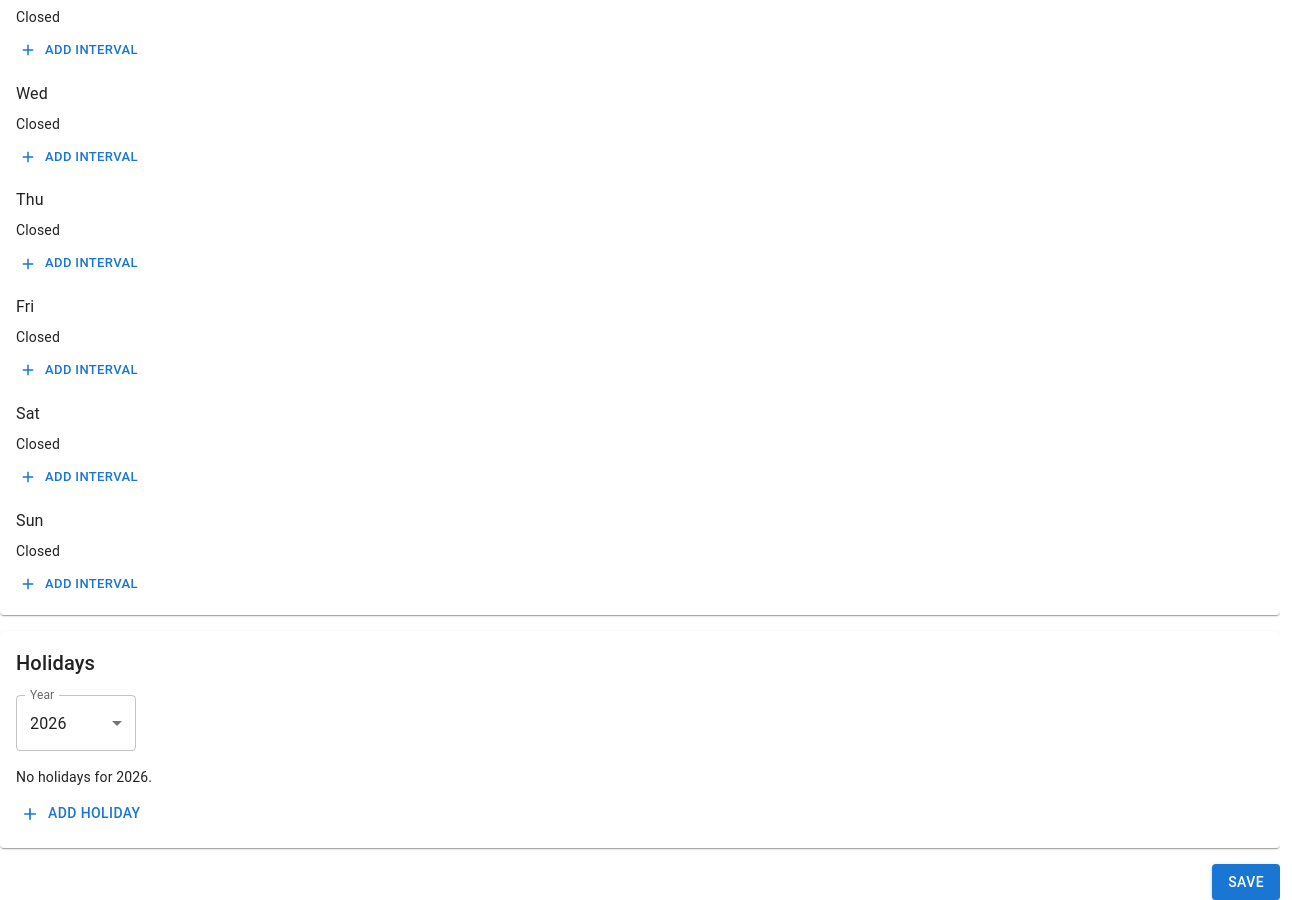
SettingsPage › shows the backend error when a save is rejected
(page scrolled)
Click the button "Save" at (1246, 882), box [1212,864,1280,899]
(page scrolled)
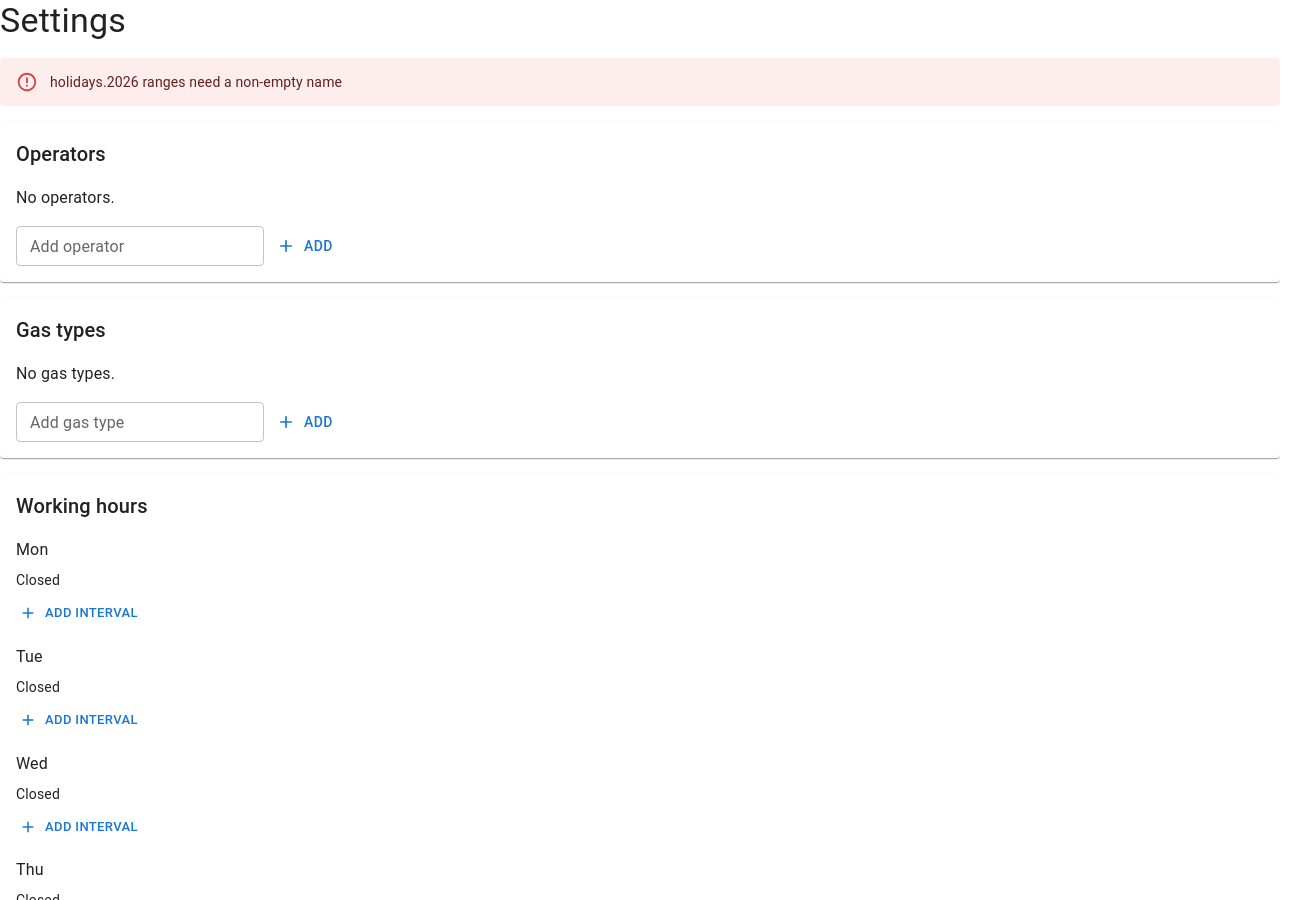
Now the text "holidays.2026 ranges need a non-empty name" is shown, box [50,74,342,90]
